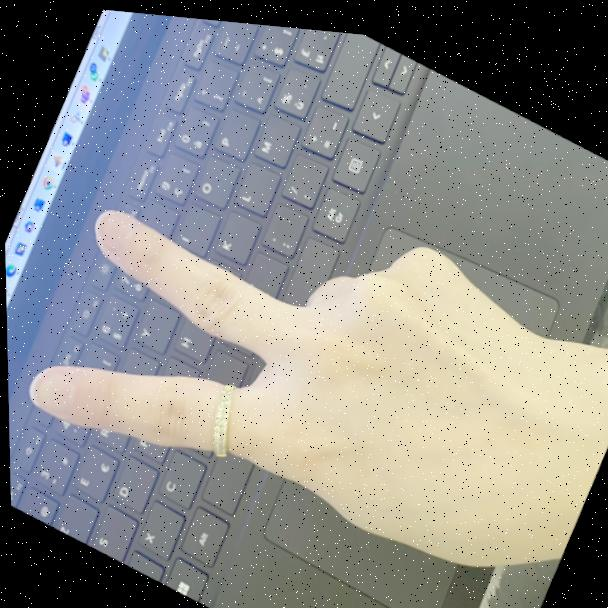two: (1, 62, 595, 608)
